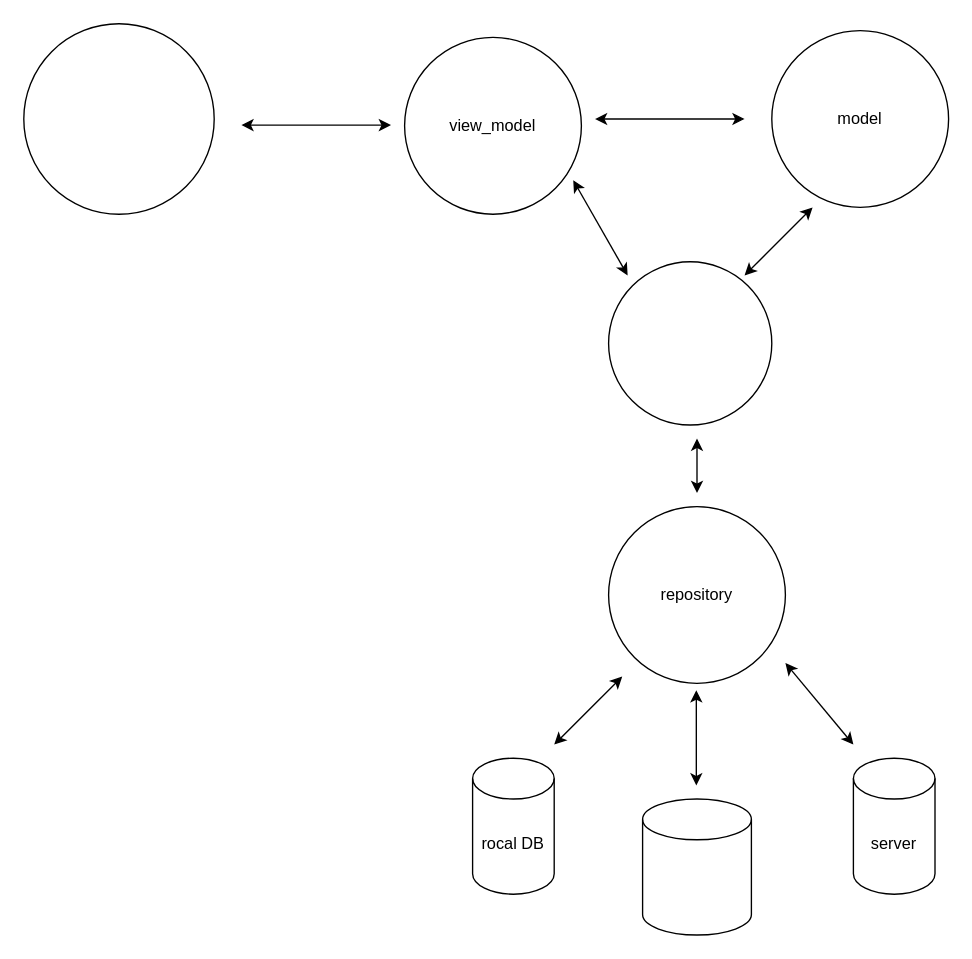
The diagram is 972 pixels wide and 959 high, and some of its shapes have lost their labels. The shapes that lost their labels are listed below. From the top down, each one's box as (x1, y1, x2, y2) in pixels, then its label:
(22, 22, 214, 214): view
(607, 260, 772, 425): entitiy
(641, 798, 751, 935): アプリ領域
